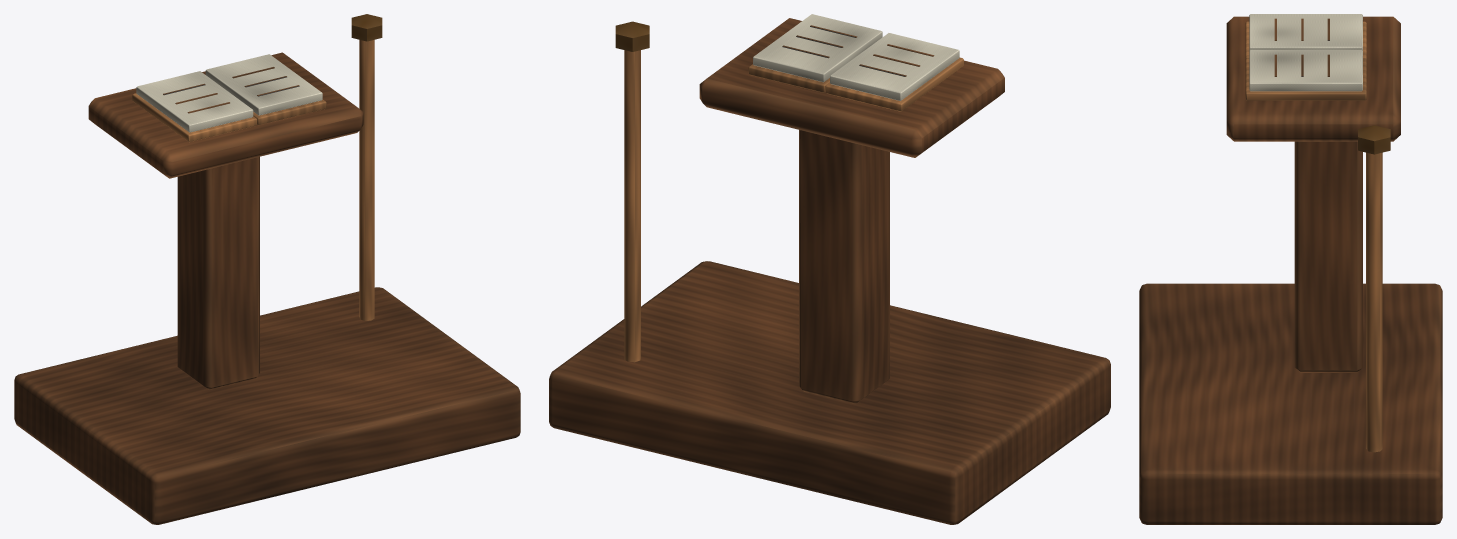
Rendered from Furn_MagicLab_TeacherPodium.fbx.
The picture shows the model from 3 angles, left to right: view 1: azimuth 30°, elevation 25°; view 2: azimuth 150°, elevation 25°; view 3: azimuth 270°, elevation 25°; orthographic projection. The views are drawn at different scales.
Visible parts, largest first — view 1: Furn_MagicLab_TeacherPodium; view 2: Furn_MagicLab_TeacherPodium; view 3: Furn_MagicLab_TeacherPodium.
Part boxes in pixels (<box>): Furn_MagicLab_TeacherPodium: <box>14,14,520,524</box>; Furn_MagicLab_TeacherPodium: <box>549,14,1110,524</box>; Furn_MagicLab_TeacherPodium: <box>1139,14,1442,524</box>.
Size of the model in its own units: 1.2 by 1.1 by 0.8.
4 materials, 4 textured.
